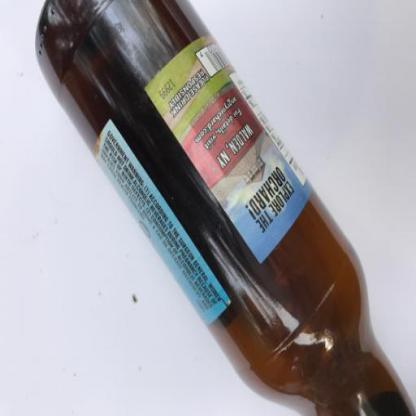trash: (34, 1, 415, 415)
